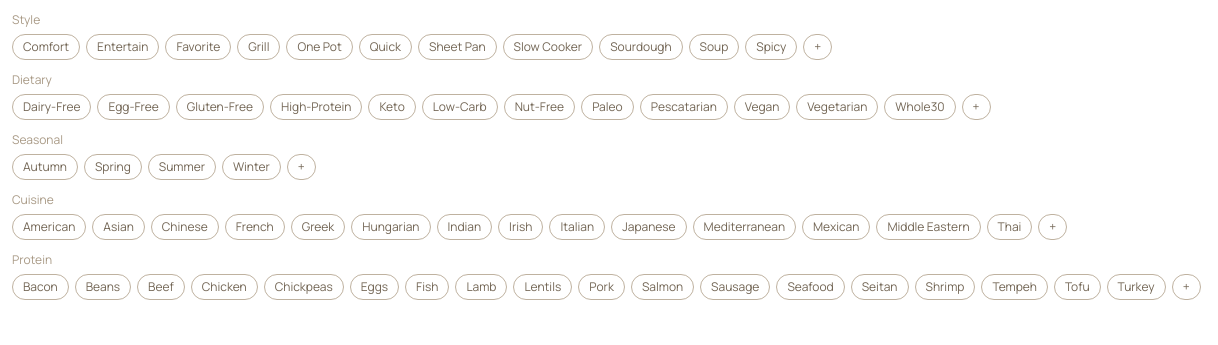
T09 - Typing a name matching an existing tag selects it instead of creating › selects the canonical first-class tag instead of creating
Step 1. Click the button named "Add custom tag" → [818, 47], box left=803, top=34, right=832, bottom=60
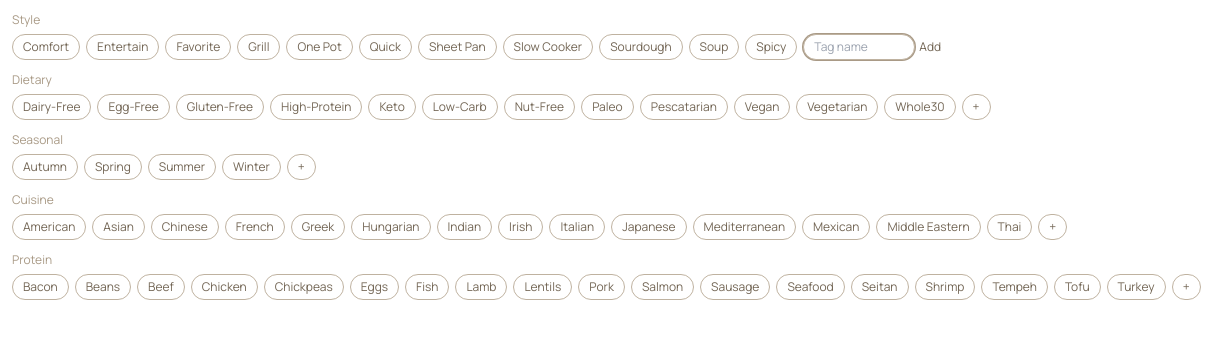
Step 2. Type "chicken" into the field with placeholder "Tag name" → [859, 47], box left=803, top=34, right=915, bottom=60
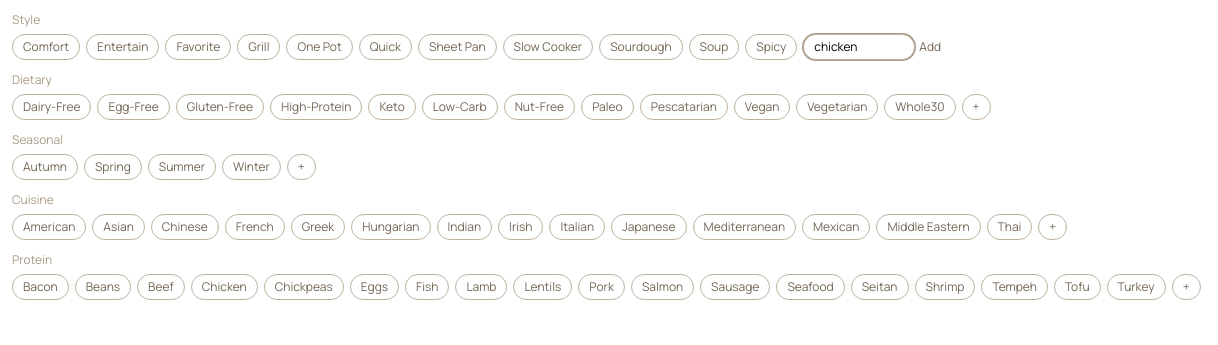
Step 3. Press Enter in the field with placeholder "Tag name", box left=803, top=34, right=915, bottom=60
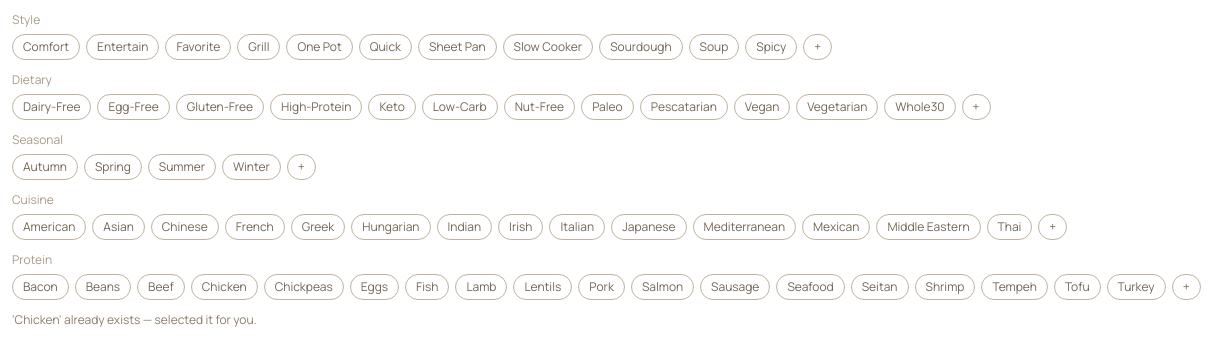
Check: the text "'Chicken' already exists — selected it for you." is shown, box left=12, top=311, right=257, bottom=328
